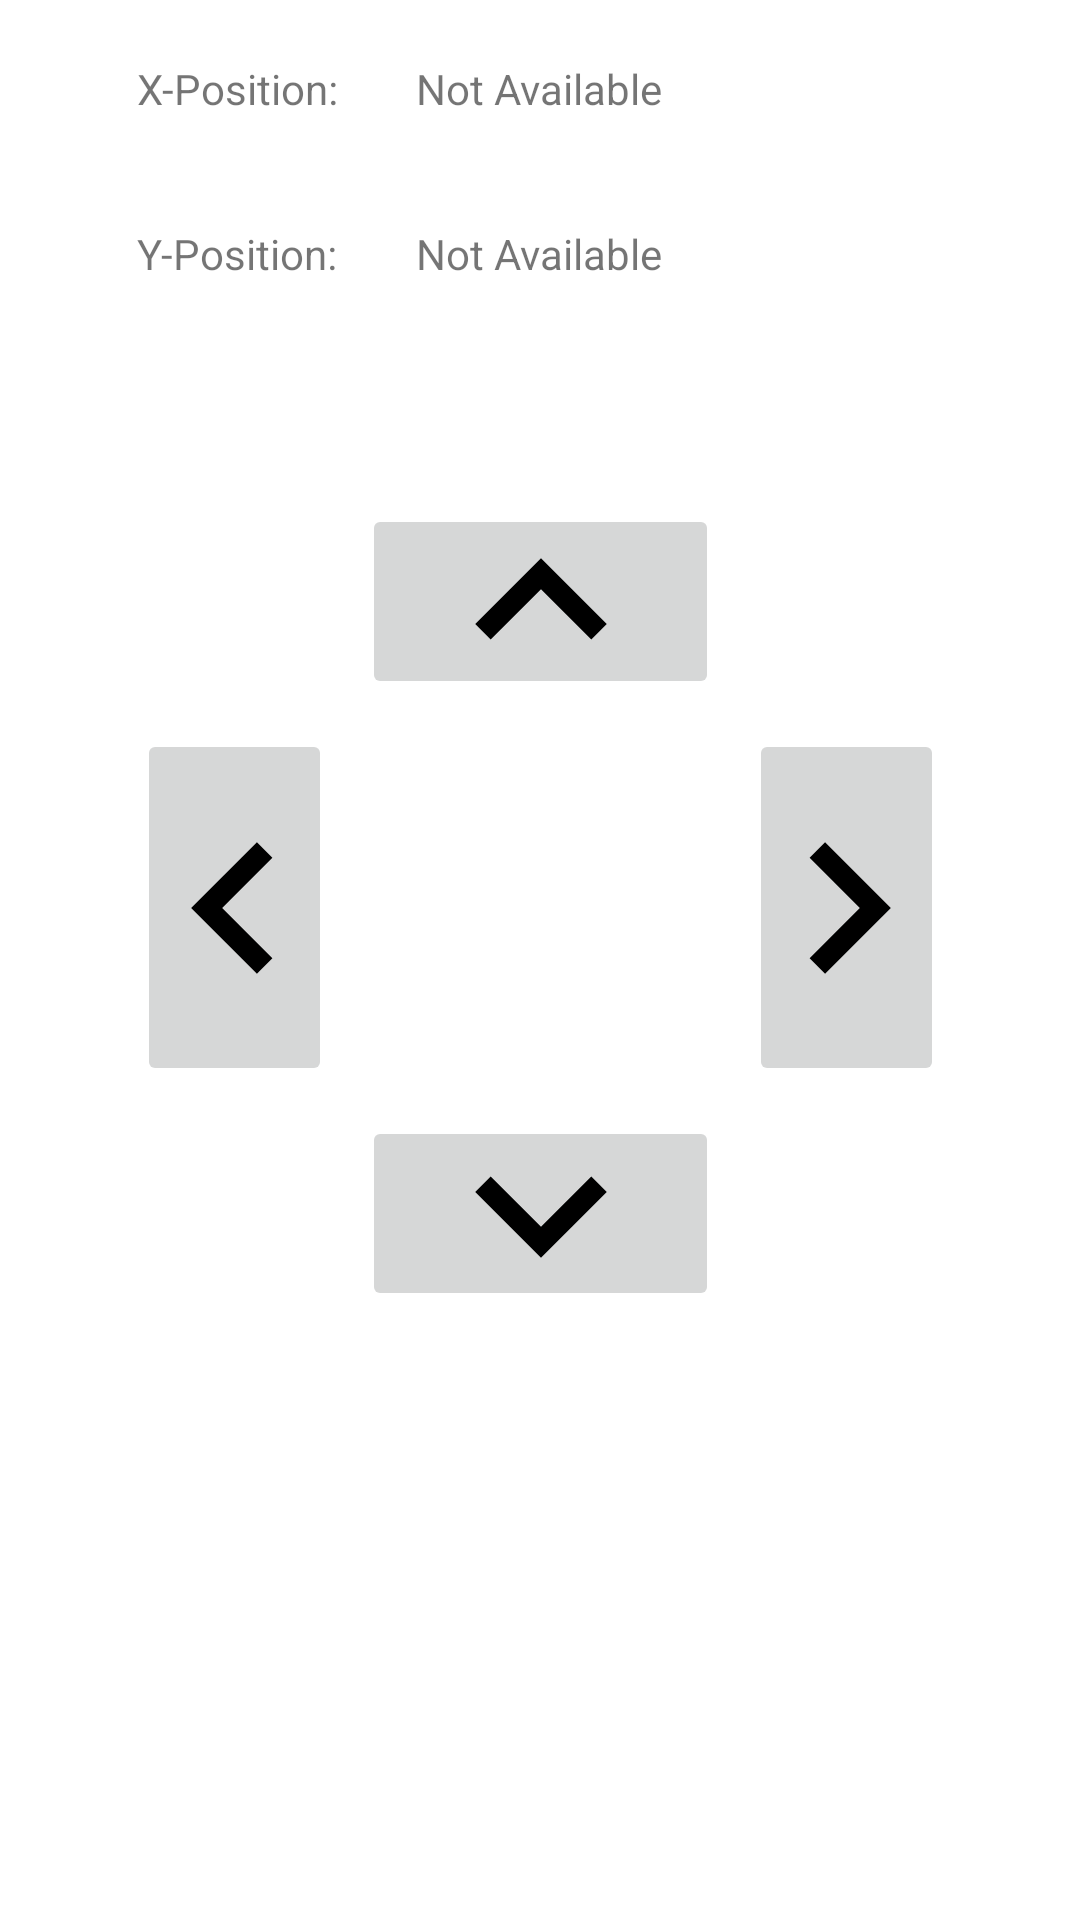

Screen size 1080px x 1920px. Icon name, then its center in pixels as (x,y):
Left: (234,907)
up: (540,601)
